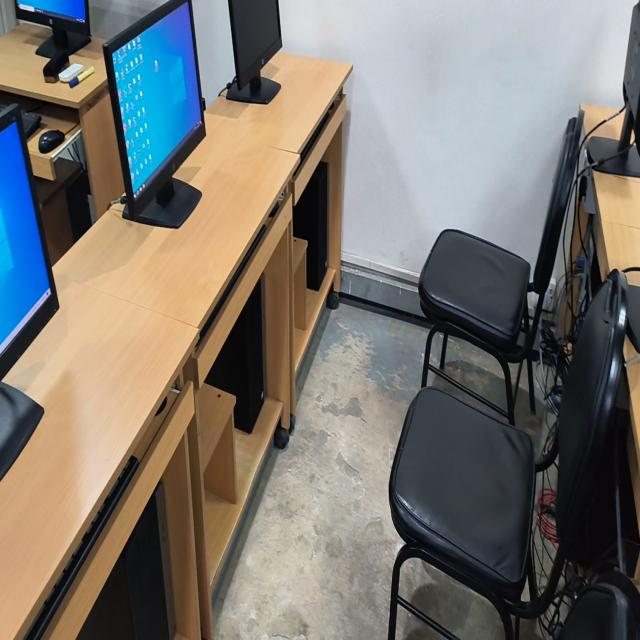Chair: (388, 270, 627, 639), (418, 112, 583, 425), (553, 570, 640, 639)
Keyboard: (24, 456, 139, 639), (198, 225, 266, 345), (293, 93, 341, 177), (21, 110, 41, 139), (271, 203, 278, 217)
Monitor: (103, 0, 205, 228), (0, 105, 59, 480), (587, 1, 640, 177), (227, 0, 282, 104), (15, 0, 90, 36), (625, 285, 640, 353)
Mouse: (39, 130, 65, 153), (155, 397, 167, 416), (268, 200, 279, 219)
